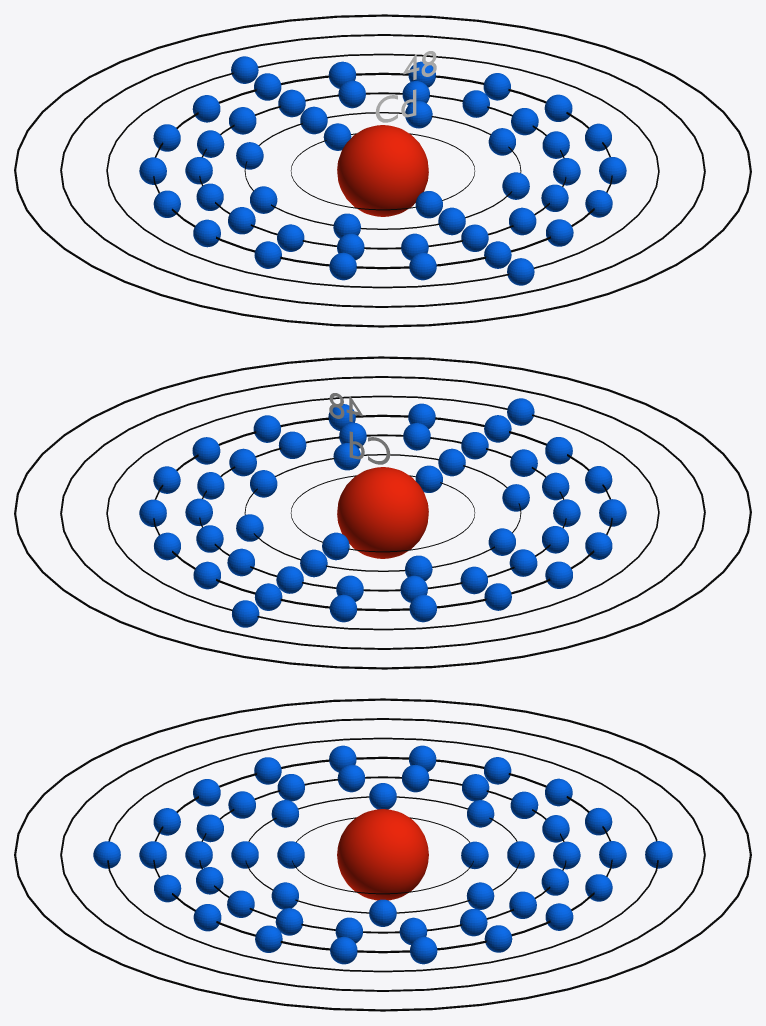
The picture shows the model from 3 angles, top to bottom: view 1: azimuth 30°, elevation 25°; view 2: azimuth 150°, elevation 25°; view 3: azimuth 270°, elevation 25°; orthographic projection.
Visible parts, largest first — view 1: Cd3.001, Cd4.001, Proton, n7, Cd2.001, n6, n5, n4, Cd5.001, Cd1.001, n3, n2; view 2: Cd3.001, Cd4.001, Proton, n7, Cd2.001, n6, n5, n4, Cd5.001, Cd1.001, n3, n2; view 3: Cd4.001, Cd3.001, Proton, Cd2.001, n7, n6, n5, n4, Cd1.001, Cd5.001, n3, n2 (+1 smaller).
Part boxes in pixels (x1,y1,x2,y2): Cd3.001: [185, 80, 580, 260]; Cd4.001: [139, 61, 626, 280]; Proton: [337, 125, 428, 216]; n7: [14, 14, 751, 327]; Cd2.001: [236, 101, 529, 238]; n6: [60, 34, 705, 307]; n5: [106, 53, 659, 288]; n4: [153, 72, 612, 269]; Cd5.001: [231, 56, 534, 285]; Cd1.001: [323, 123, 442, 218]; n3: [199, 92, 566, 249]; n2: [244, 112, 521, 229]; Cd3.001: [185, 422, 580, 602]; Cd4.001: [139, 403, 626, 622]; Proton: [337, 467, 428, 558]; n7: [14, 356, 751, 669]; Cd2.001: [236, 443, 529, 580]; n6: [60, 376, 705, 649]; n5: [106, 395, 659, 630]; n4: [153, 414, 612, 611]; Cd5.001: [232, 398, 534, 627]; Cd1.001: [322, 465, 442, 560]; n3: [199, 434, 566, 591]; n2: [244, 454, 521, 571]; Cd4.001: [139, 745, 626, 964]; Cd3.001: [185, 764, 580, 944]; Proton: [337, 809, 428, 900]; Cd2.001: [231, 783, 534, 926]; n7: [14, 698, 751, 1011]; n6: [60, 718, 705, 991]; n5: [107, 737, 658, 972]; n4: [153, 756, 612, 953]; Cd1.001: [277, 841, 488, 869]; Cd5.001: [93, 841, 672, 868]; n3: [199, 776, 566, 933]; n2: [245, 796, 520, 913].
Bounding box in the file's own units: 802 × 180 × 802.
